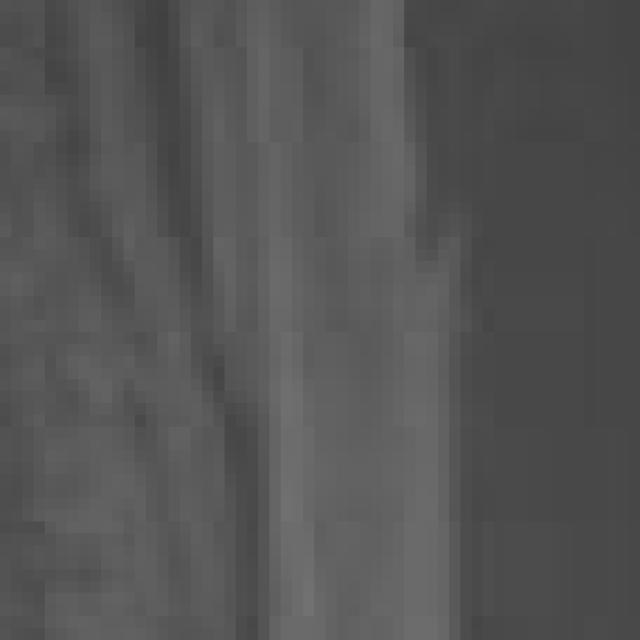fracture: (13, 1, 640, 636)
